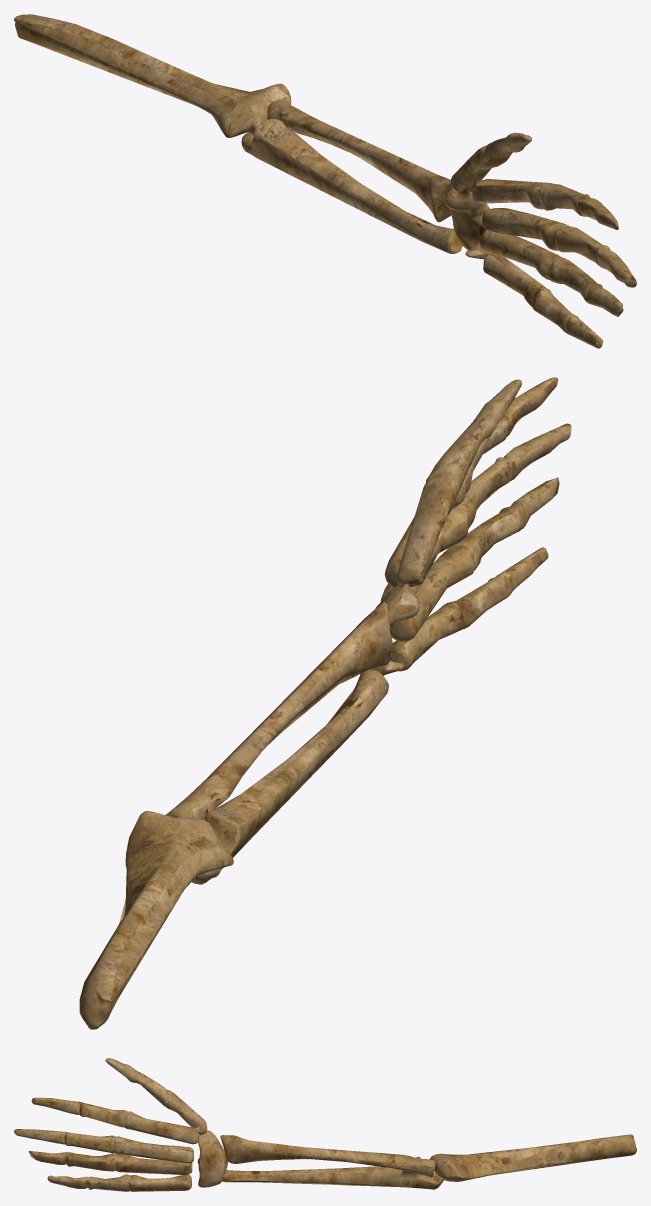
Rendered from skeletal_arm_pose_1.dae.
3 renders of one model, top to bottom at view 1: azimuth 30°, elevation 25°; view 2: azimuth 150°, elevation 25°; view 3: azimuth 270°, elevation 25°, orthographic. The views are drawn at different scales.
Visible parts, largest first — view 1: Cube; view 2: Cube; view 3: Cube.
Part boxes in pixels (x1,y1,x2,y2): Cube: [14, 14, 636, 348]; Cube: [79, 377, 571, 1029]; Cube: [14, 1058, 636, 1191].
Size of the model in its own units: 0.4224 by 2.45 by 0.571.
1 material, 1 textured.
